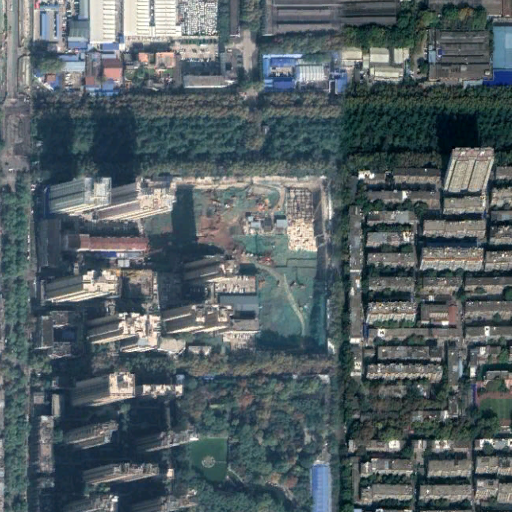cw: (140, 184, 327, 355)
